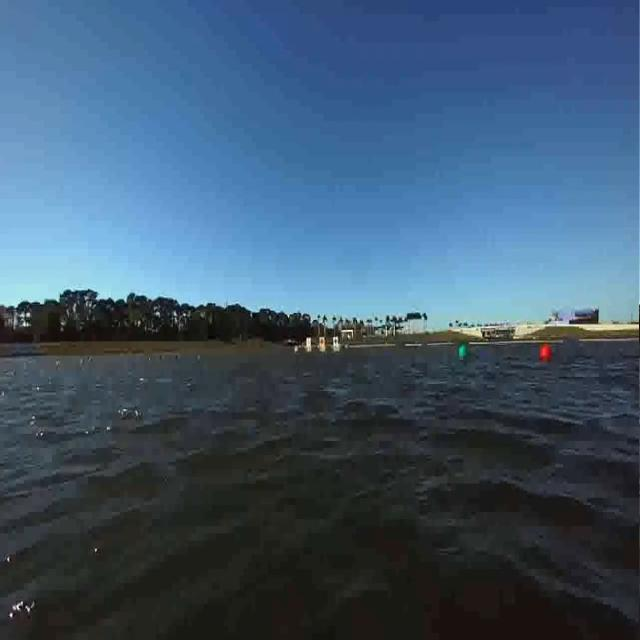green-buoy: (458, 343, 468, 360)
red-buoy: (539, 343, 552, 363)
